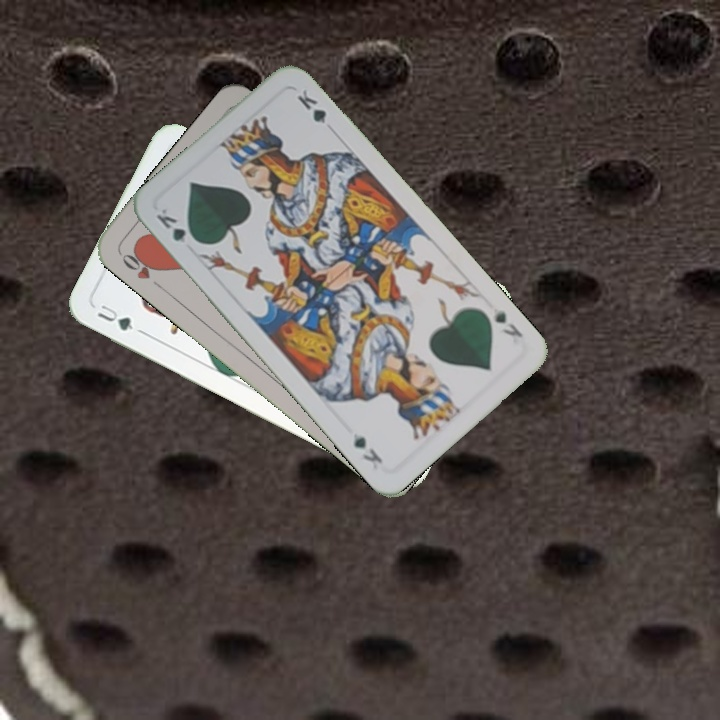GK: (152, 204, 202, 247), (490, 305, 526, 341)
GU: (93, 300, 137, 334)
HO: (117, 245, 166, 292)
